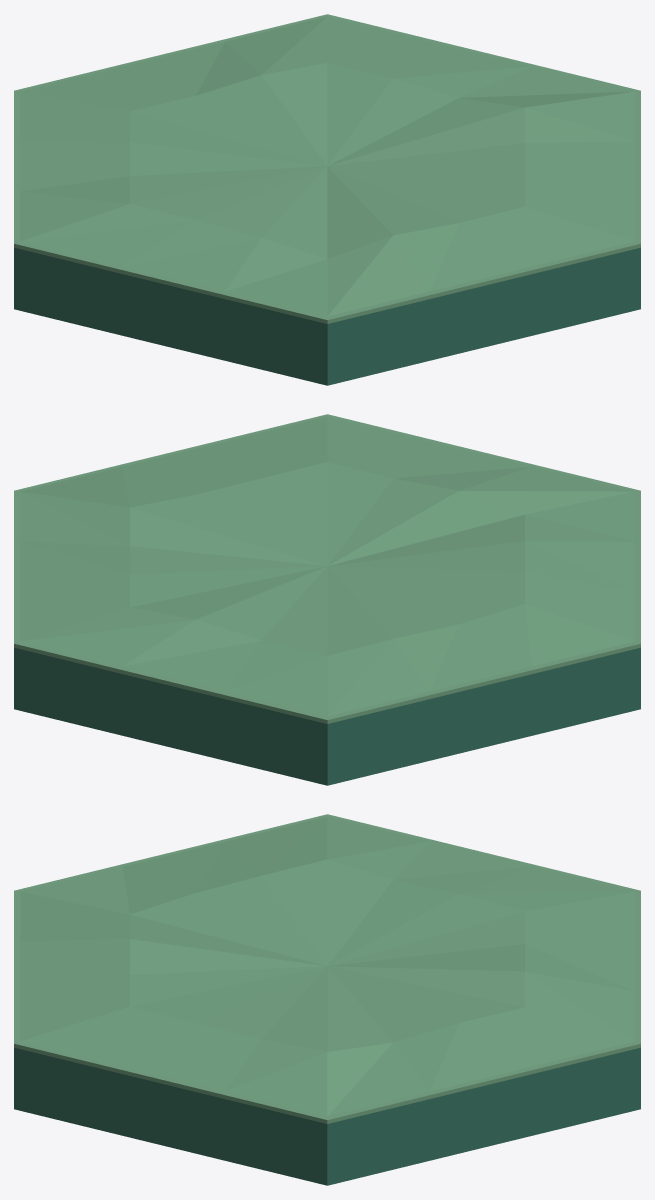
Rendered from terrain.glb.
The picture shows the model from 3 angles, top to bottom: view 1: azimuth 30°, elevation 25°; view 2: azimuth 150°, elevation 25°; view 3: azimuth 270°, elevation 25°; orthographic projection.
Visible parts, largest first — view 1: Forest_Ground_Relief, Tile_Everfree_Green; view 2: Forest_Ground_Relief, Tile_Everfree_Green; view 3: Forest_Ground_Relief, Tile_Everfree_Green.
Part boxes in pixels (x1,y1,x2,y2): Forest_Ground_Relief: (20, 16, 634, 316); Tile_Everfree_Green: (14, 14, 640, 385); Forest_Ground_Relief: (20, 416, 634, 716); Tile_Everfree_Green: (14, 414, 640, 785); Forest_Ground_Relief: (20, 816, 634, 1116); Tile_Everfree_Green: (14, 814, 640, 1185).
Bounding box in the file's own units: 2 × 0.2367 × 1.73.
